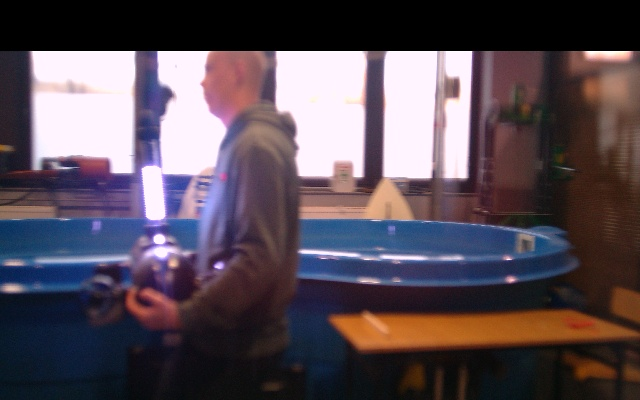white: (140, 165, 167, 220)
